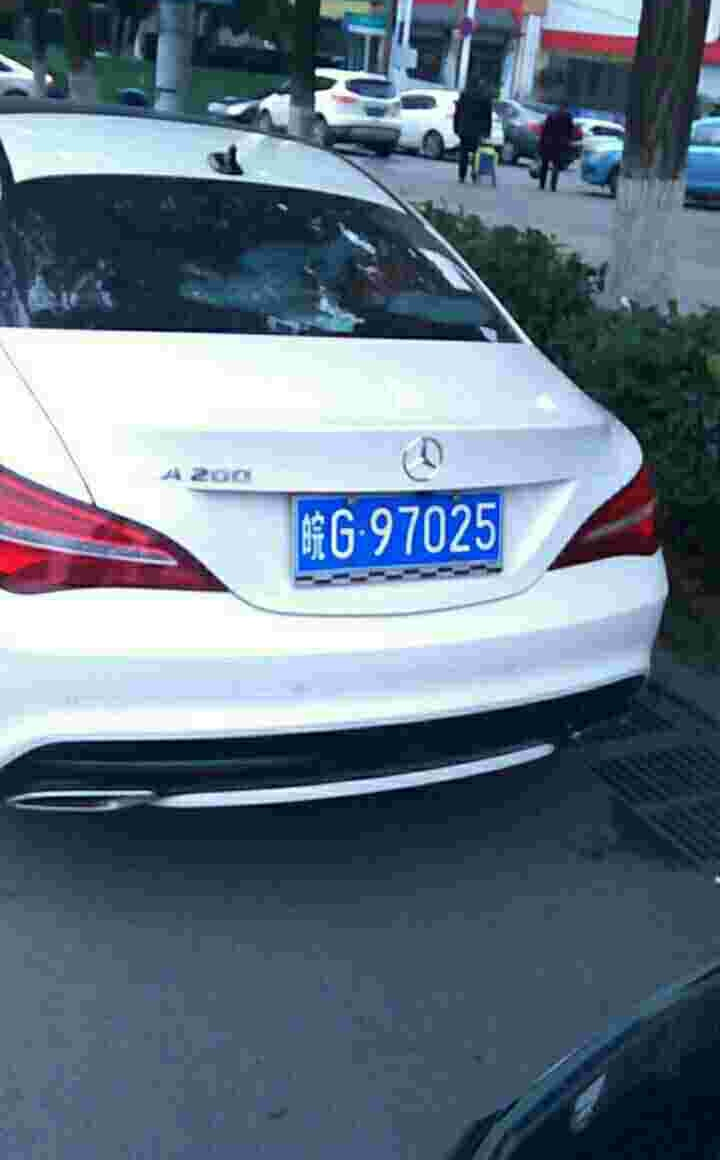license_plate: (293, 491, 494, 585)
